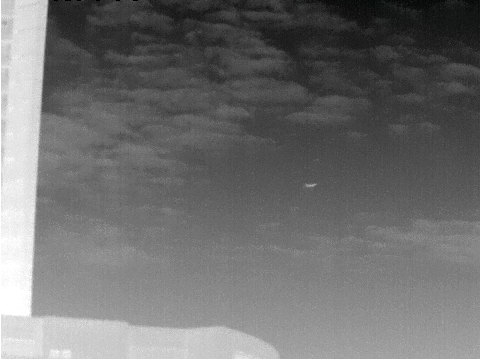dim target: (297, 172, 322, 196)
